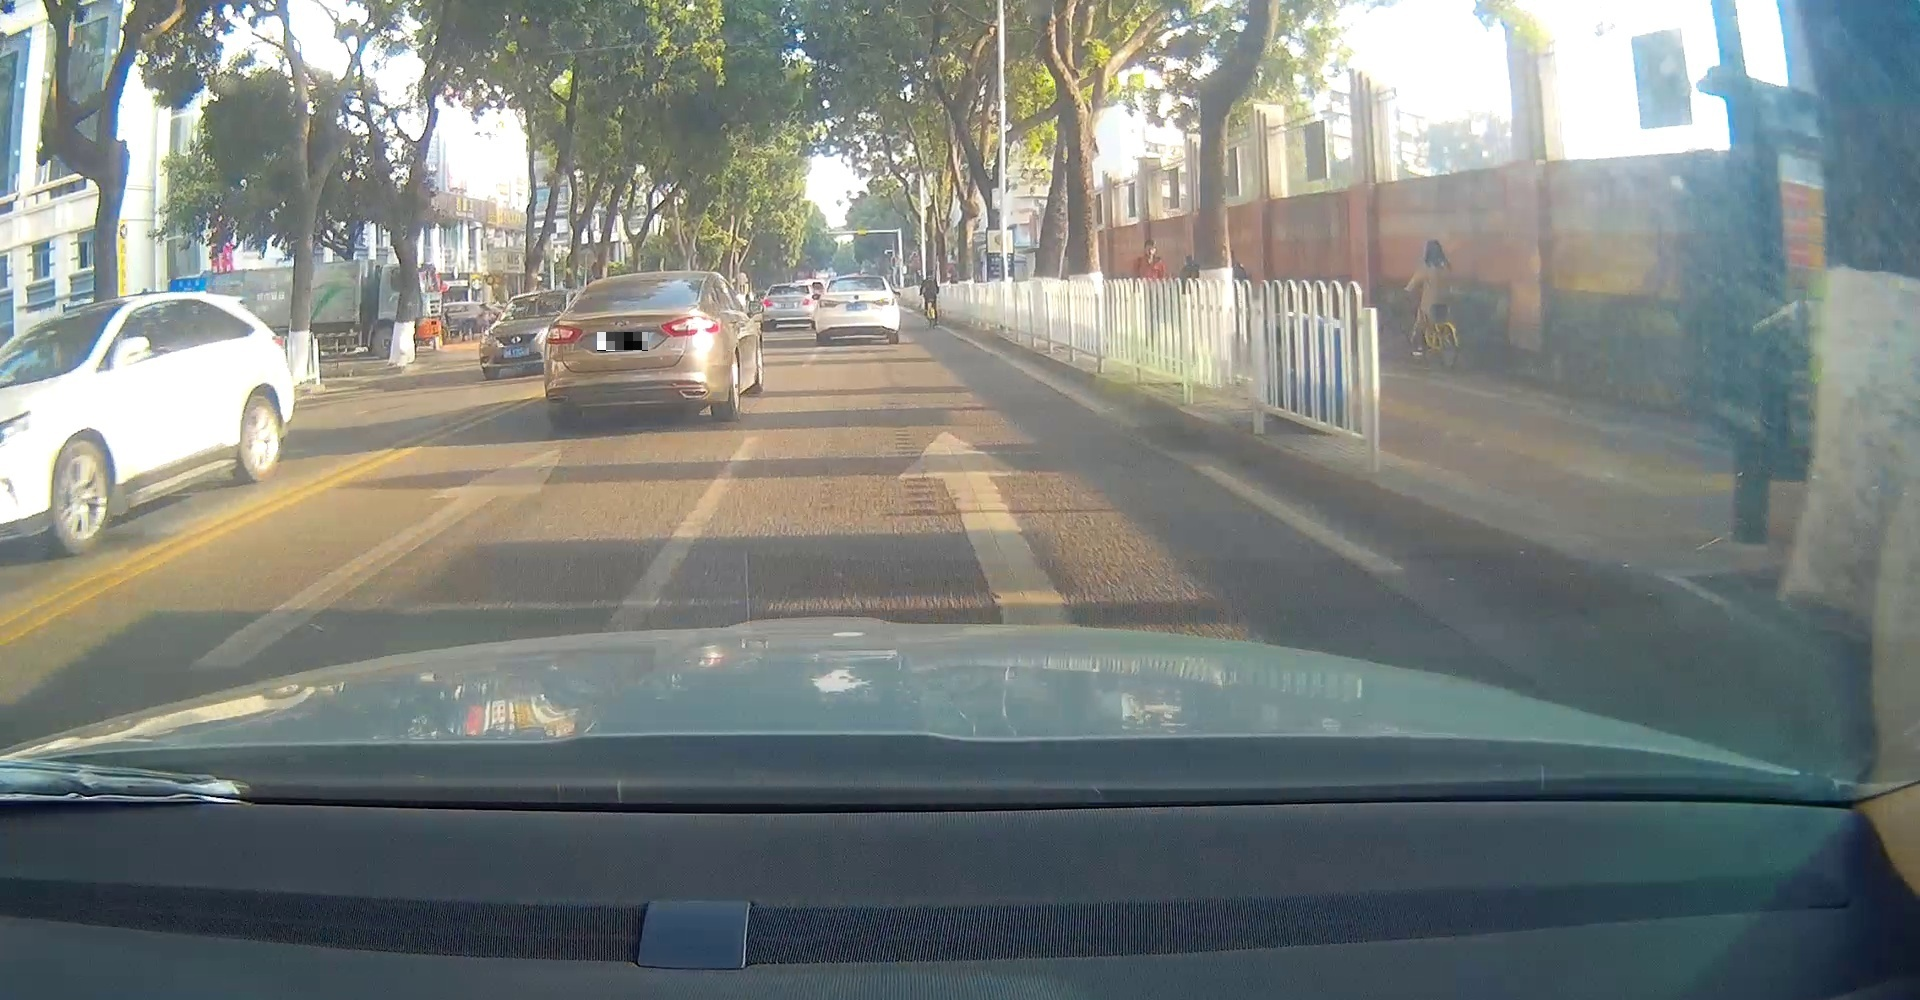L_light: (543, 324, 583, 344)
R_light: (660, 315, 719, 338)
T_light: (632, 279, 663, 287)
day-brake: (543, 272, 720, 426)
plate_1: (597, 332, 648, 352)
